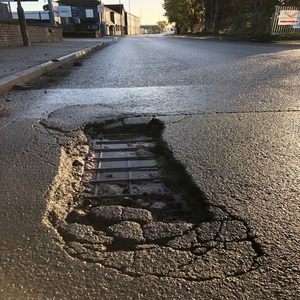pothole: (50, 119, 216, 253)
